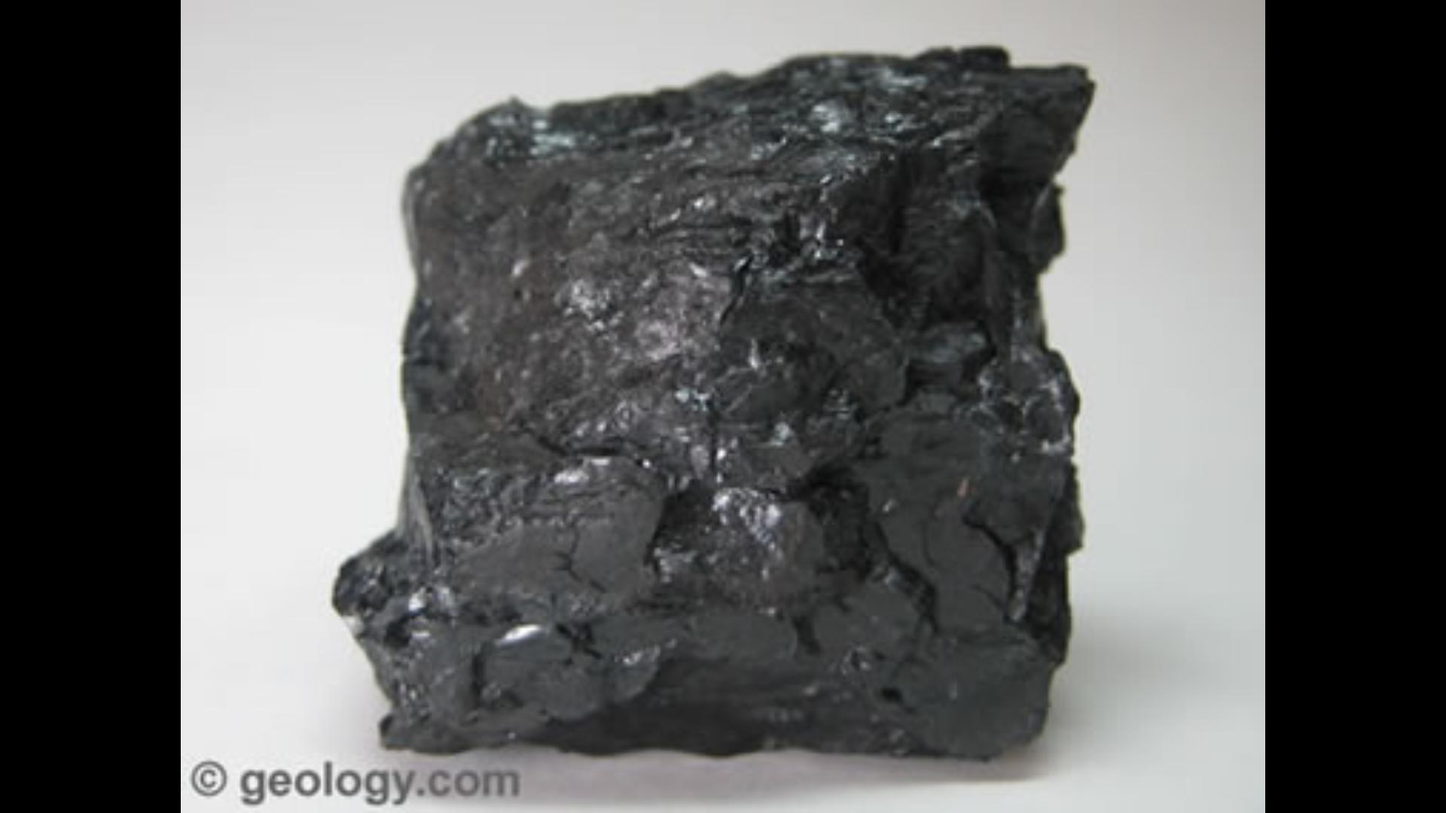rock: (335, 48, 1091, 756)
